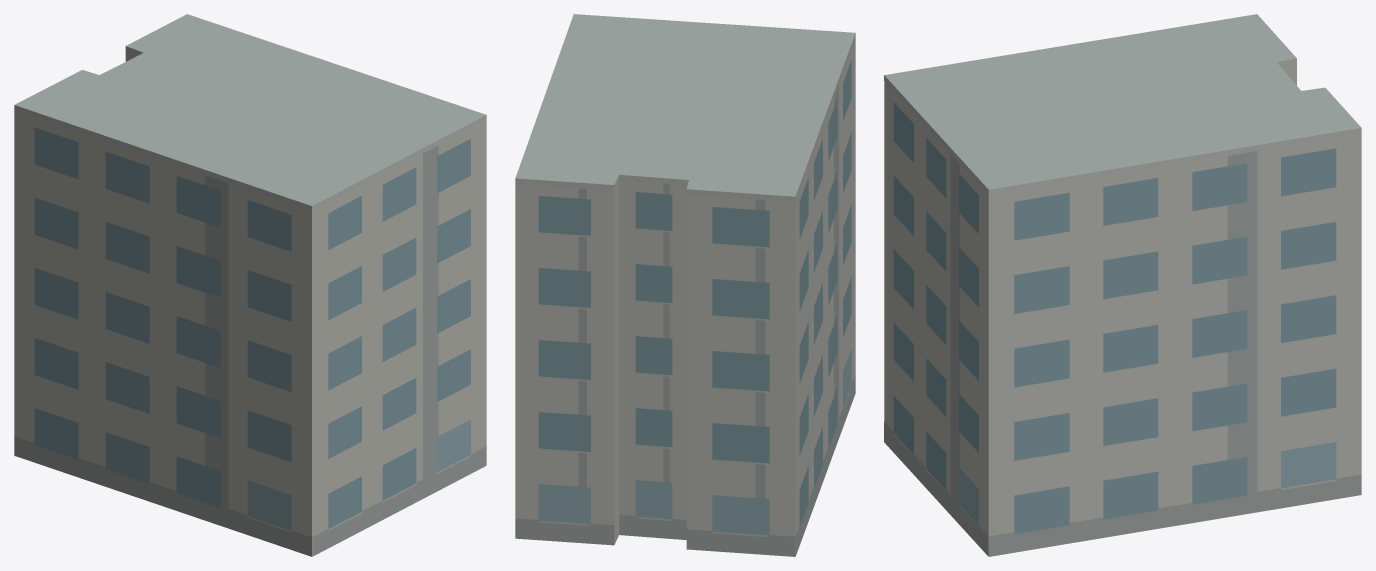
The model's file is survey-upis-32894563.glb.
3 views of the same model, side by side, from view 1: azimuth 30°, elevation 25°; view 2: azimuth 150°, elevation 25°; view 3: azimuth 270°, elevation 25° (orthographic). The views are drawn at different scales.
Visible parts, largest first — view 1: survey-upis-32894563.tmp; view 2: survey-upis-32894563.tmp; view 3: survey-upis-32894563.tmp.
Boxes of the visible parts, box(x1,y1,x2,y2) form: survey-upis-32894563.tmp: box(14, 14, 486, 556); survey-upis-32894563.tmp: box(515, 14, 855, 556); survey-upis-32894563.tmp: box(884, 14, 1361, 556).
Size of the model in its own units: 15.67 by 15.25 by 17.99.
